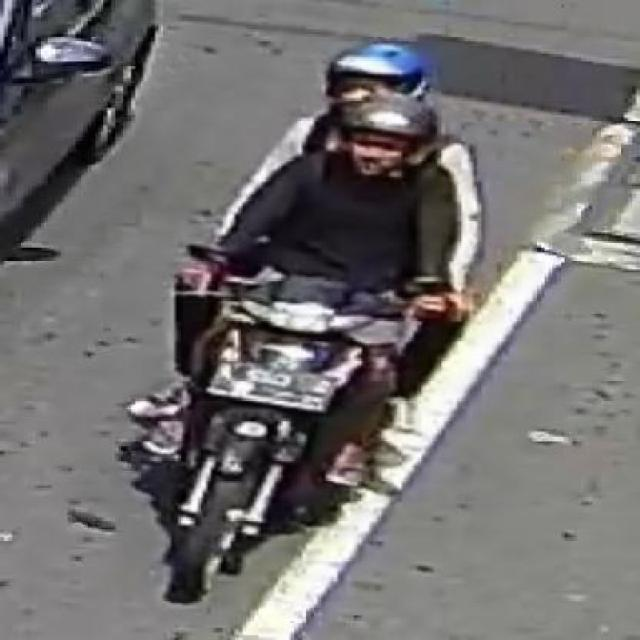helmet: (328, 94, 445, 191), (312, 34, 439, 105)
motorcycle: (98, 33, 519, 612)
